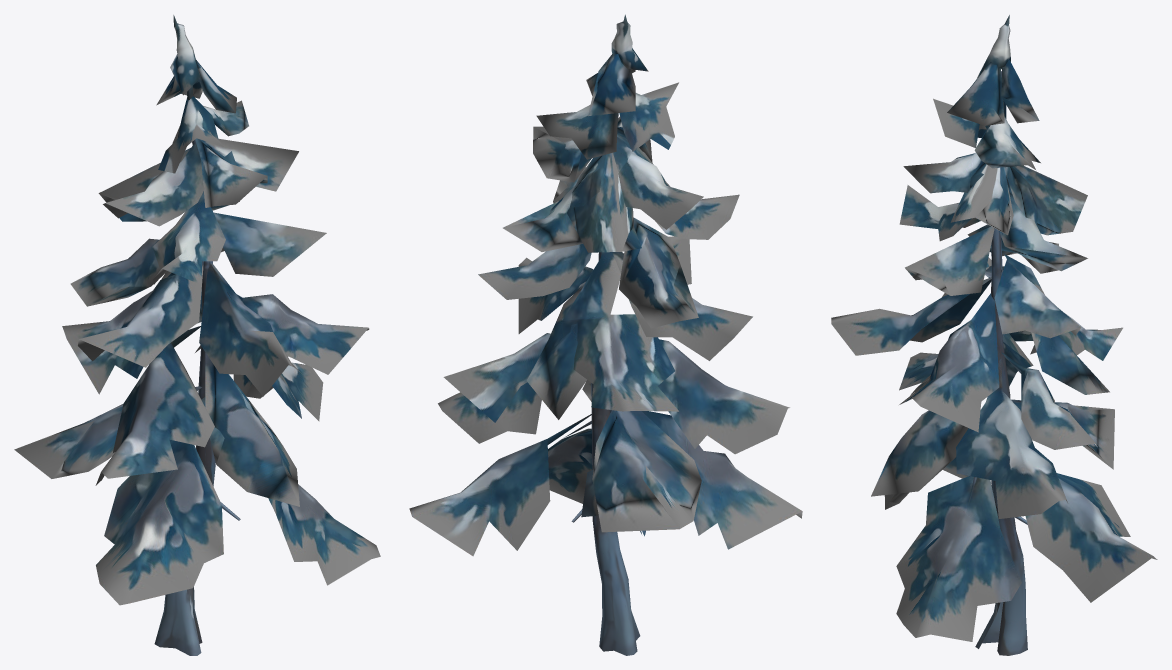
Rendered from snow-fir.glb.
The picture shows the model from 3 angles, left to right: view 1: azimuth 30°, elevation 25°; view 2: azimuth 150°, elevation 25°; view 3: azimuth 270°, elevation 25°; orthographic projection.
Parts seen in each view (by area): view 1: geometry_0; view 2: geometry_0; view 3: geometry_0.
Part boxes in pixels (x1=…): geometry_0: x1=14, y1=15, x2=380, y2=655; geometry_0: x1=409, y1=14, x2=802, y2=655; geometry_0: x1=831, y1=15, x2=1157, y2=655.
Size of the model in its own units: 0.46 by 0.9541 by 0.4482.
1 material, 1 textured.
